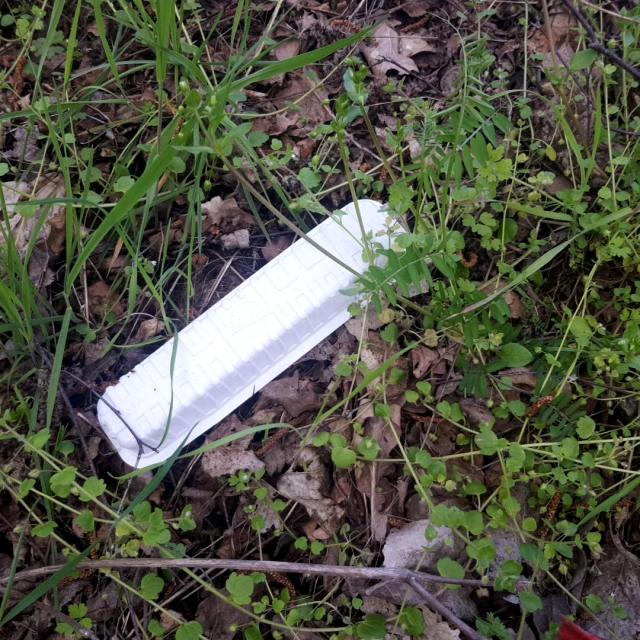Plastic: (95, 195, 412, 471)
